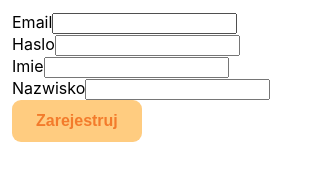
it: RegisterForm › validates email format and password length
The width and height of the screenshot is (332, 179).
Type "wrong" into the field labelled "Email" at (145, 24), box [52,13,237,34]
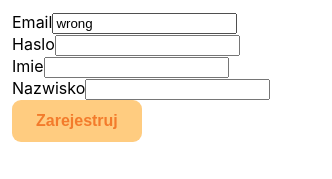
Type "123" into the password field labelled "Haslo" at (147, 46), box [55,35,240,56]
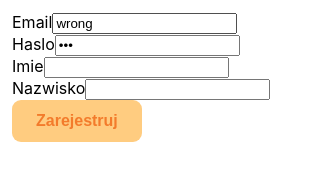
Type "Jan" into the field labelled "Imie" at (136, 68), box [44,57,228,78]
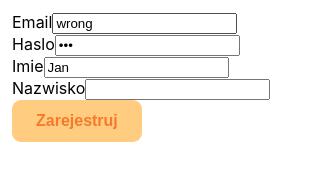
Submit the form named "register-form", box [12,12,270,142]
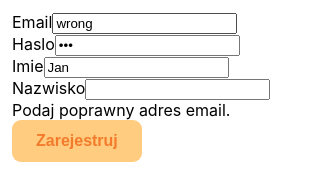
expect the message reads "Podaj poprawny adres email.": met, box [12,100,230,120]
